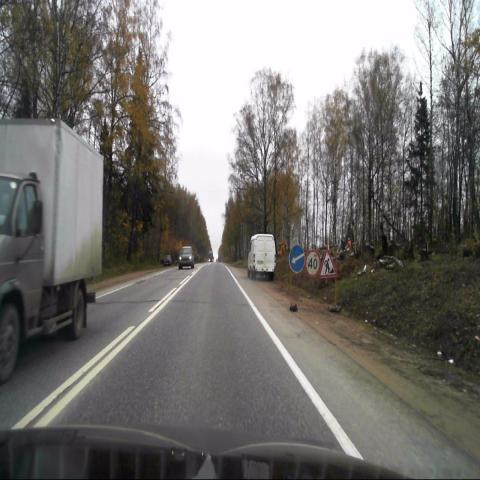1_25: (319, 247, 337, 278)
3_24: (305, 249, 319, 276)
4_2_2: (289, 244, 305, 273)
